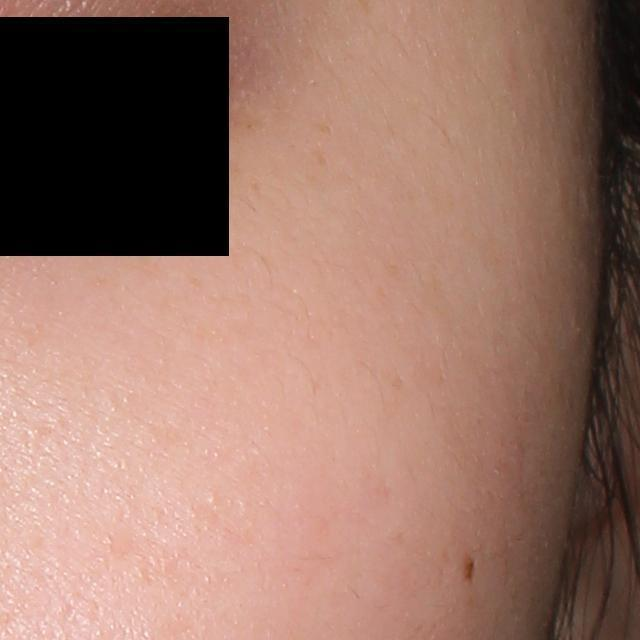nevus: (461, 554, 482, 586)
